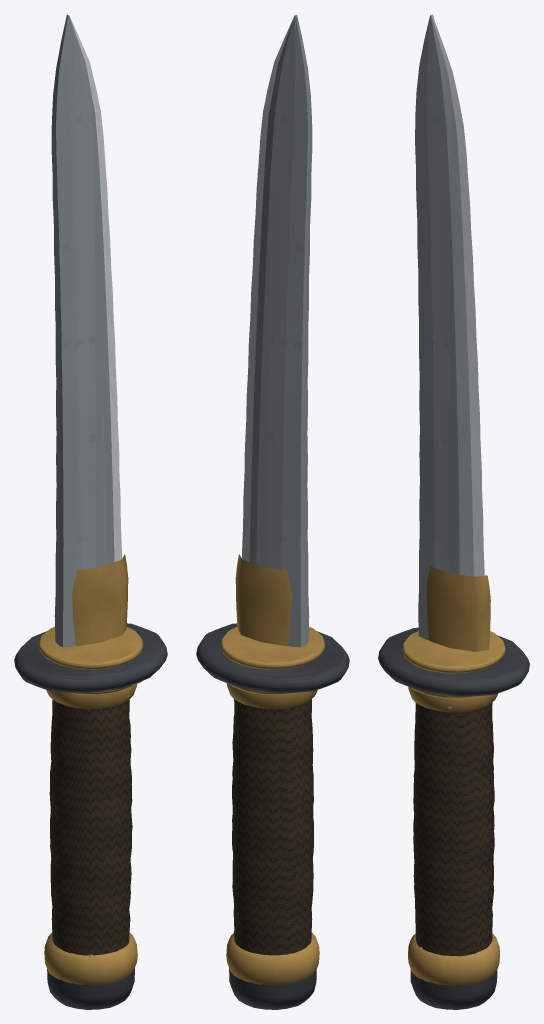
The model's file is tanto.lod1.glb.
3 renders of one model, left to right at view 1: azimuth 30°, elevation 25°; view 2: azimuth 150°, elevation 25°; view 3: azimuth 330°, elevation 25°, orthographic.
Parts seen in each view (by area): view 1: steel / forged blade steel, cord / waxed silk cord wrap, brass / polished brass furniture, darksteel / oil-blackened fittings, edge / honed bright bevel; view 2: steel / forged blade steel, cord / waxed silk cord wrap, brass / polished brass furniture, darksteel / oil-blackened fittings, edge / honed bright bevel; view 3: steel / forged blade steel, cord / waxed silk cord wrap, brass / polished brass furniture, darksteel / oil-blackened fittings, edge / honed bright bevel.
Part boxes in pixels (x1,y1,x2,y2): steel / forged blade steel: (51, 15, 114, 647); cord / waxed silk cord wrap: (49, 699, 132, 955); brass / polished brass furniture: (38, 554, 143, 985); darksteel / oil-blackened fittings: (14, 623, 167, 1009); edge / honed bright bevel: (70, 17, 121, 561); steel / forged blade steel: (249, 15, 312, 647); cord / waxed silk cord wrap: (232, 699, 313, 955); brass / polished brass furniture: (220, 554, 325, 985); darksteel / oil-blackened fittings: (196, 623, 349, 1009); edge / honed bright bevel: (242, 18, 293, 561); steel / forged blade steel: (415, 14, 473, 639); cord / waxed silk cord wrap: (413, 702, 494, 956); brass / polished brass furniture: (402, 566, 505, 985); darksteel / oil-blackened fittings: (378, 627, 529, 1009); edge / honed bright bevel: (432, 15, 484, 576).
Size of the model in its own units: 0.058 by 0.3945 by 0.0476.
Materials: 6 (5 with a texture image).
